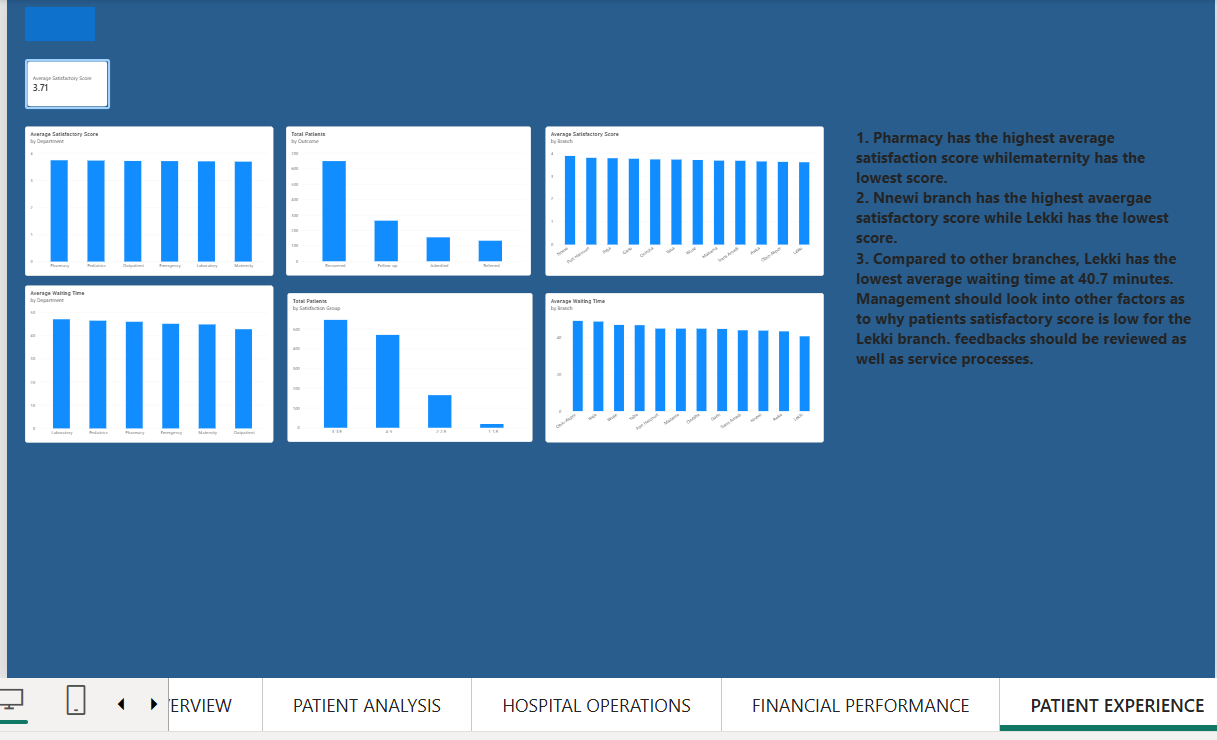

This screenshot's page, from the dashboard's own definition file:
{"tool":"powerbi","page":{"name":"PATIENT EXPERIENCE","canvas":[3840,2160],"ordinal":4},"visuals":[{"type":"cardVisual","fields":{"Data":["Patient_Visits.Average Satisfactory Score"]},"box":[57.3,190.9,270.4,159.1],"z":0},{"type":"clusteredColumnChart","fields":{"Category":["Patient_Visits.Department"],"Y":["Patient_Visits.Average Satisfactory Score"]},"box":[55,405,790,475],"z":1000},{"type":"clusteredColumnChart","fields":{"Category":["Patient_Visits.Branch"],"Y":["Patient_Visits.Average Satisfactory Score"]},"box":[1715,405,885,475],"z":2000},{"type":"columnChart","fields":{"Category":["Patient_Visits.Satisfaction Group"],"Y":["Patient_Visits.Total Patients"]},"box":[890.7,935.3,779.4,474],"z":3000},{"type":"clusteredColumnChart","fields":{"Category":["Patient_Visits.Outcome"],"Y":["Patient_Visits.Total Patients"]},"box":[887.6,404,779.4,474],"z":4000},{"type":"actionButton","box":[57.3,25.4,222.7,111.3],"z":5000},{"type":"textbox","box":[2700,405,1070,1005],"z":5001},{"type":"clusteredColumnChart","fields":{"Category":["Patient_Visits.Branch"],"Y":["Patient_Visits.Average Waiting Time"]},"box":[1715,935,885,475],"z":5002},{"type":"clusteredColumnChart","fields":{"Category":["Patient_Visits.Department"],"Y":["Patient_Visits.Average Waiting Time"]},"box":[55,910,790,500],"z":5003}]}

Visuals, with their boxes on the page's 3840x2160 design canvas (x1, y1, x2, y2). These are canvas units, not pixel positions in the 1217x740 screenshot, which may show the page scaled, cropped or inside an application window:
cardVisual - Patient_Visits.Average Satisfactory Score: detection(57, 191, 328, 350)
clusteredColumnChart - Patient_Visits.Department x Patient_Visits.Average Satisfactory Score: detection(55, 405, 845, 880)
clusteredColumnChart - Patient_Visits.Branch x Patient_Visits.Average Satisfactory Score: detection(1715, 405, 2600, 880)
columnChart - Patient_Visits.Satisfaction Group x Patient_Visits.Total Patients: detection(891, 935, 1670, 1409)
clusteredColumnChart - Patient_Visits.Outcome x Patient_Visits.Total Patients: detection(888, 404, 1667, 878)
actionButton: detection(57, 25, 280, 137)
textbox: detection(2700, 405, 3770, 1410)
clusteredColumnChart - Patient_Visits.Branch x Patient_Visits.Average Waiting Time: detection(1715, 935, 2600, 1410)
clusteredColumnChart - Patient_Visits.Department x Patient_Visits.Average Waiting Time: detection(55, 910, 845, 1410)
